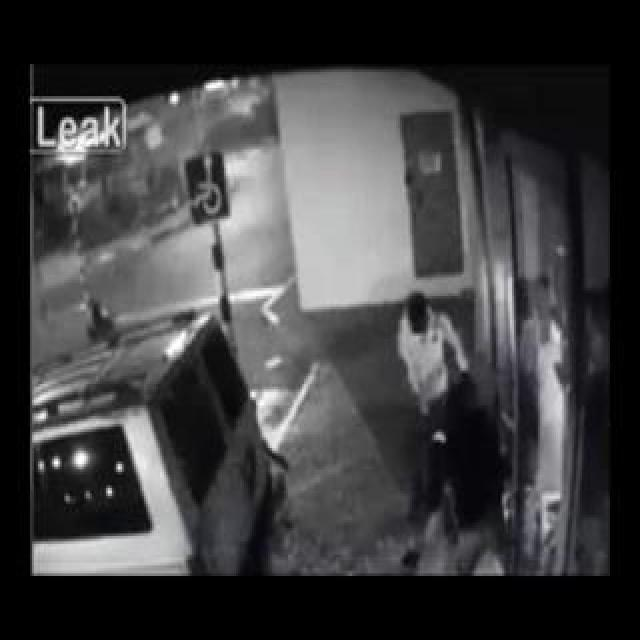thief: (393, 322, 520, 521)
